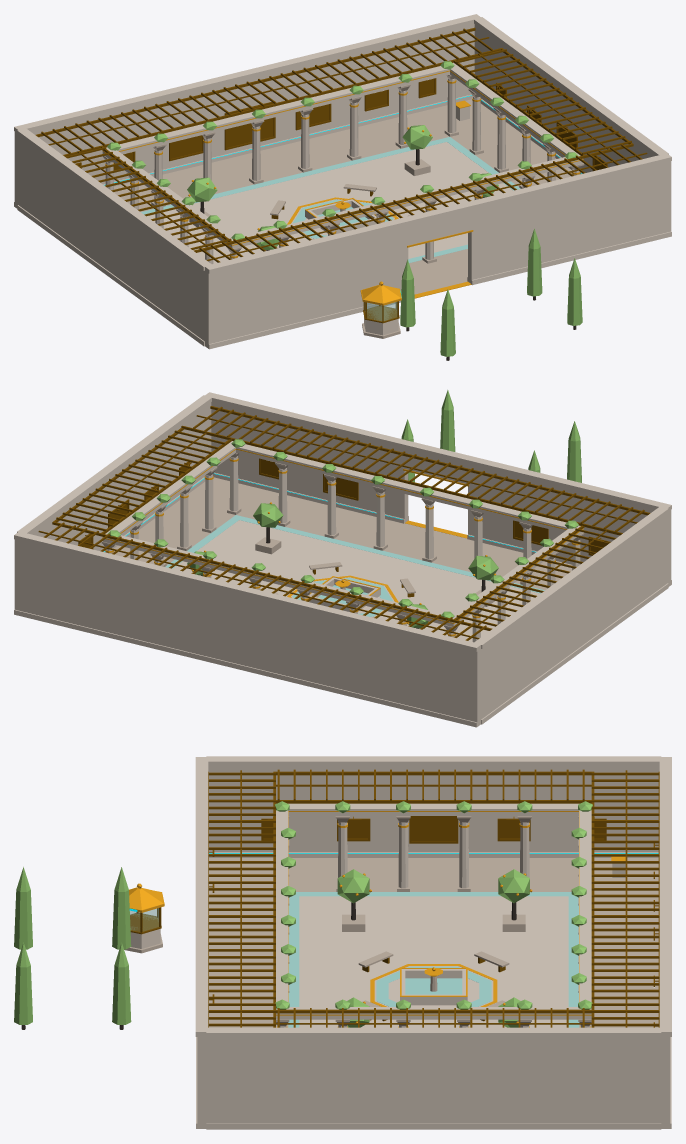
3 renders of one model, top to bottom at view 1: azimuth 30°, elevation 25°; view 2: azimuth 150°, elevation 25°; view 3: azimuth 270°, elevation 25°, orthographic. The views are drawn at different scales.
Parts seen in each view (by area): view 1: stoa; view 2: stoa; view 3: stoa.
Part boxes in pixels (left/top/right/bottom): stoa: left=14, top=14, right=671, bottom=360; stoa: left=14, top=390, right=671, bottom=727; stoa: left=14, top=756, right=671, bottom=1129.
Bounding box in the file's own units: 36.7 × 6 × 36.89.
